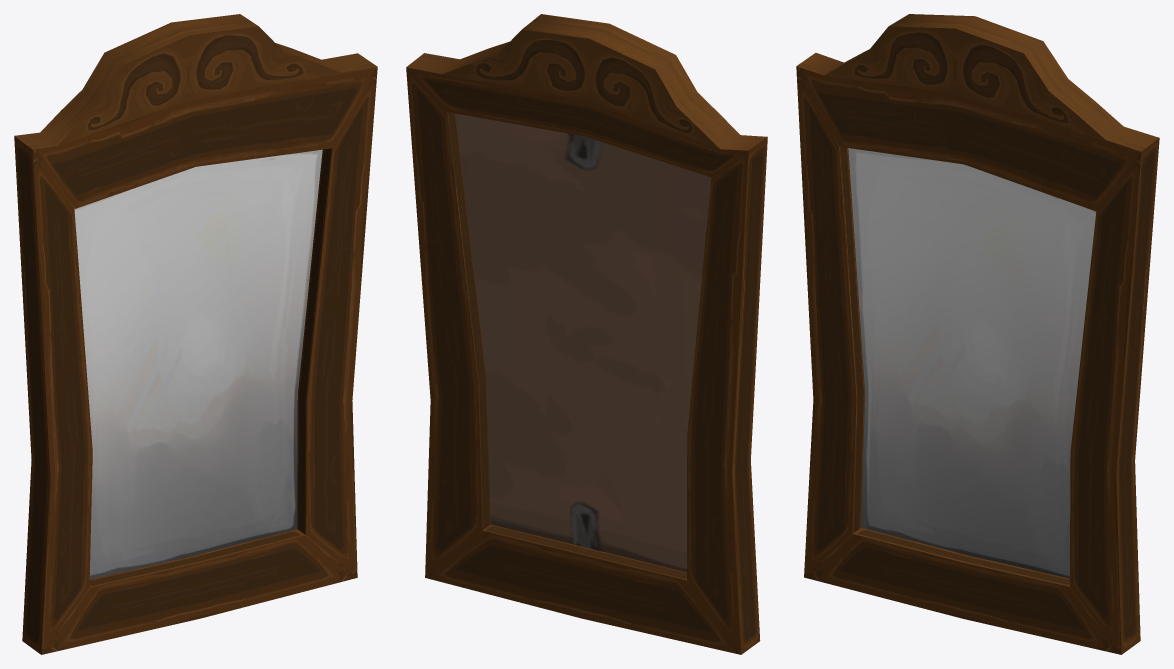
File: SM_PROP_mirror_interior_03.fbx
3 views of the same model, side by side, from view 1: azimuth 30°, elevation 25°; view 2: azimuth 150°, elevation 25°; view 3: azimuth 330°, elevation 25° (orthographic).
Parts seen in each view (by area): view 1: SM_PROP_mirror_interior_03; view 2: SM_PROP_mirror_interior_03; view 3: SM_PROP_mirror_interior_03.
Boxes of the visible parts, left/top/right/bottom form: SM_PROP_mirror_interior_03: left=14, top=14, right=377, bottom=654; SM_PROP_mirror_interior_03: left=406, top=14, right=767, bottom=654; SM_PROP_mirror_interior_03: left=796, top=14, right=1159, bottom=654.
Bounding box in the file's own units: 63.7 × 103 × 6.84.
